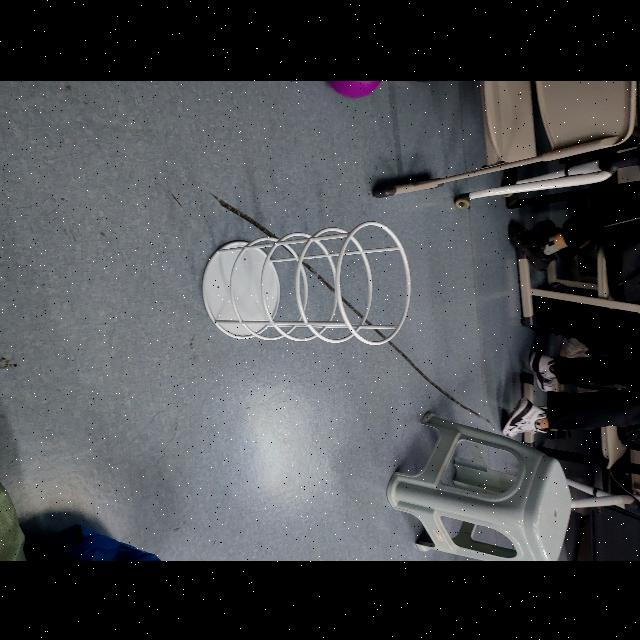S: (198, 216, 412, 346)
